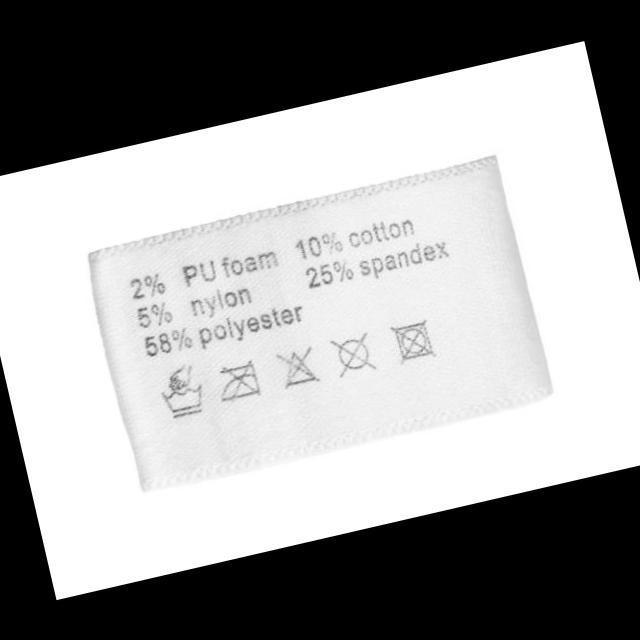DN_bleach: (272, 342, 324, 392)
DN_dry_clean: (326, 327, 381, 382)
DN_iron: (210, 355, 266, 407)
DN_tumble_dry: (386, 314, 439, 368)
hand_wash: (152, 359, 214, 426)
